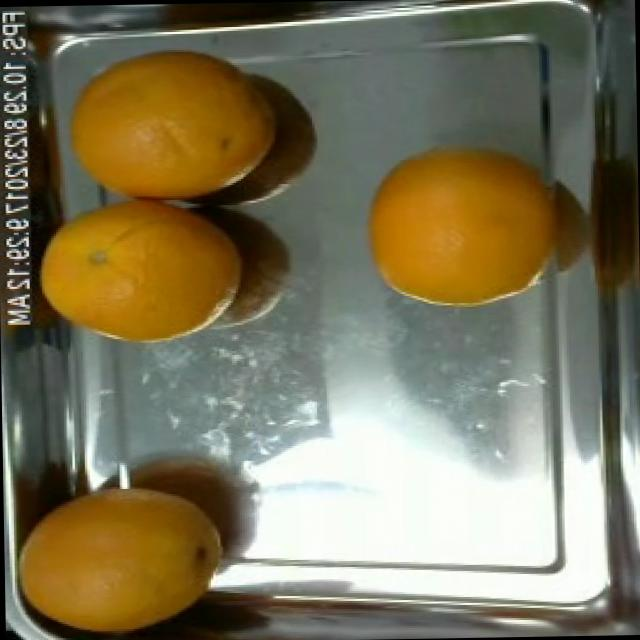Fruit: (2, 474, 211, 640)
